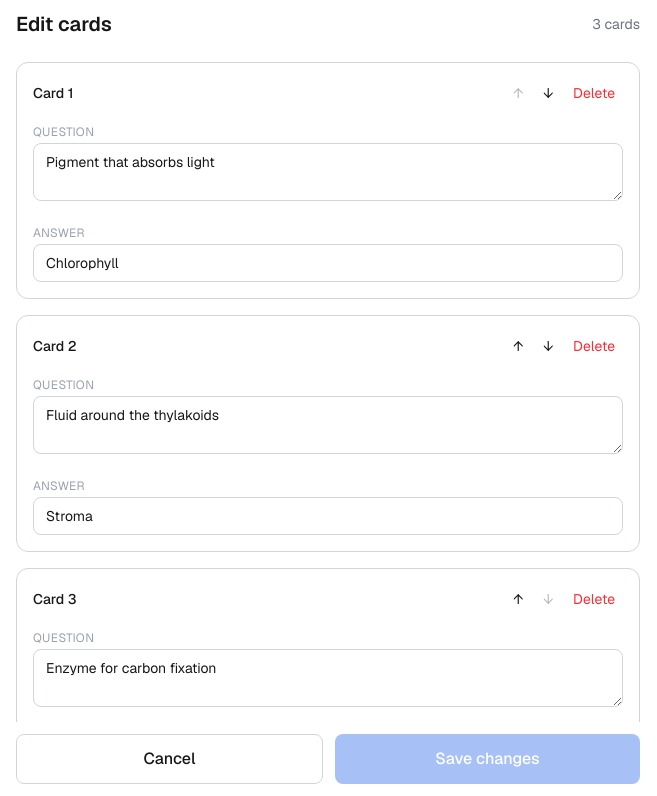
Scenario: CardEditor: flashcards › shows the server's error on the right card
Replace the text in the text box labelled "Question" below "Card 1" with "changed" at (328,172), box left=33, top=143, right=623, bottom=201
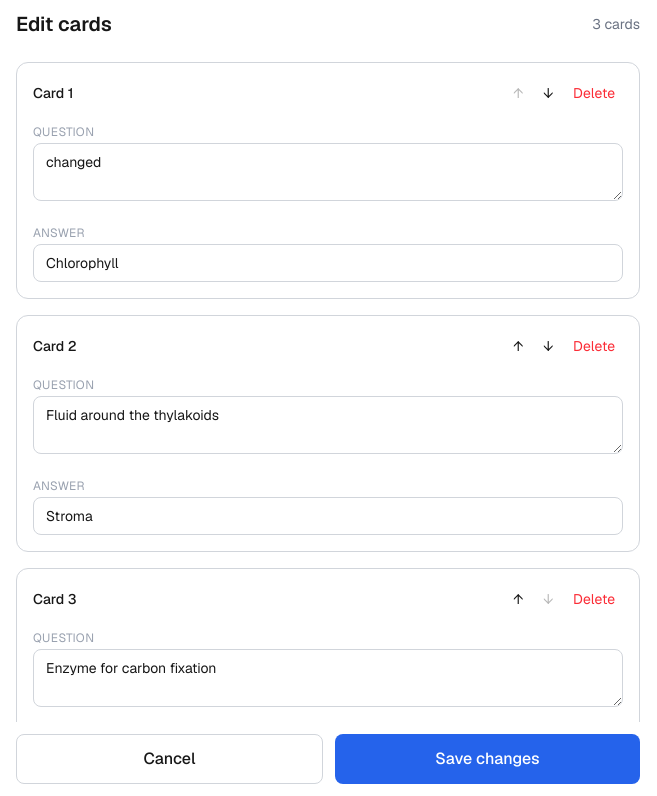
Click the button "Save changes".
click(488, 759)  # box left=335, top=734, right=640, bottom=784
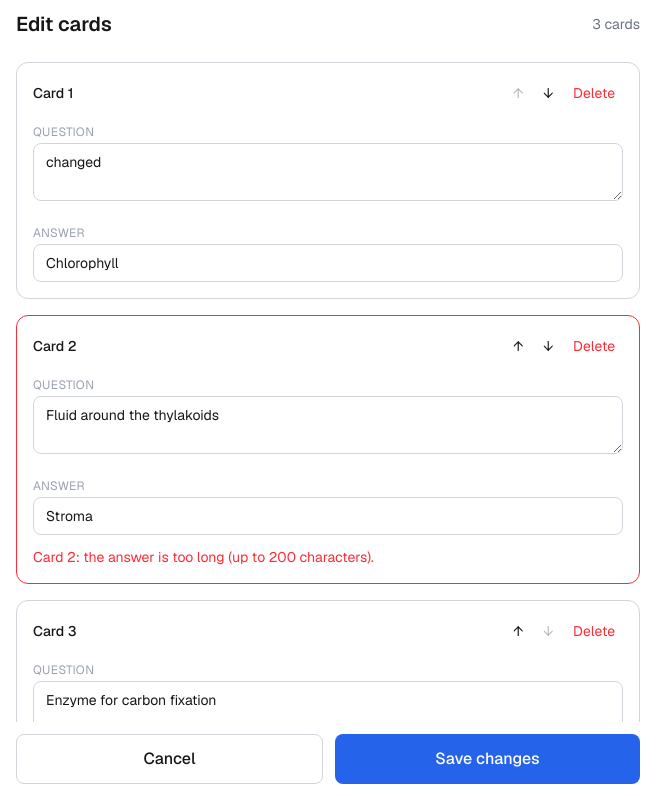
Expected: the message shows "answer is too long", left=33, top=548, right=374, bottom=566
